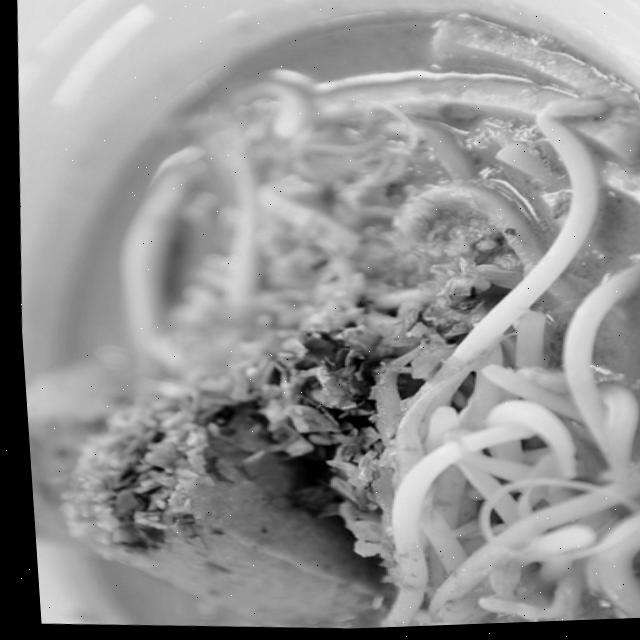面条主食: (1, 10, 640, 640)
